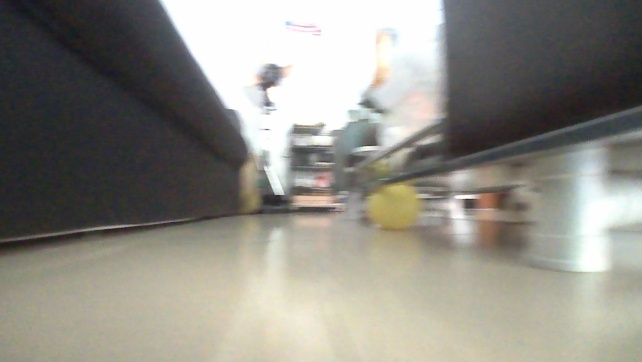sofa1: (0, 0, 250, 245)
